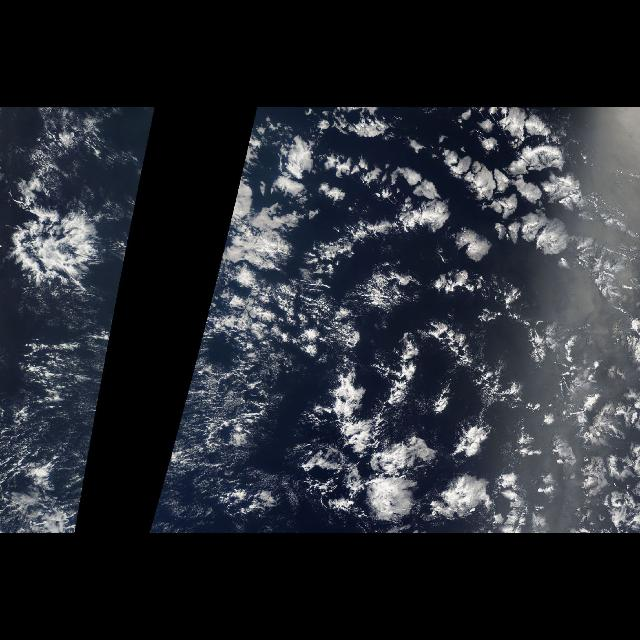Flower: (295, 120, 639, 532)
